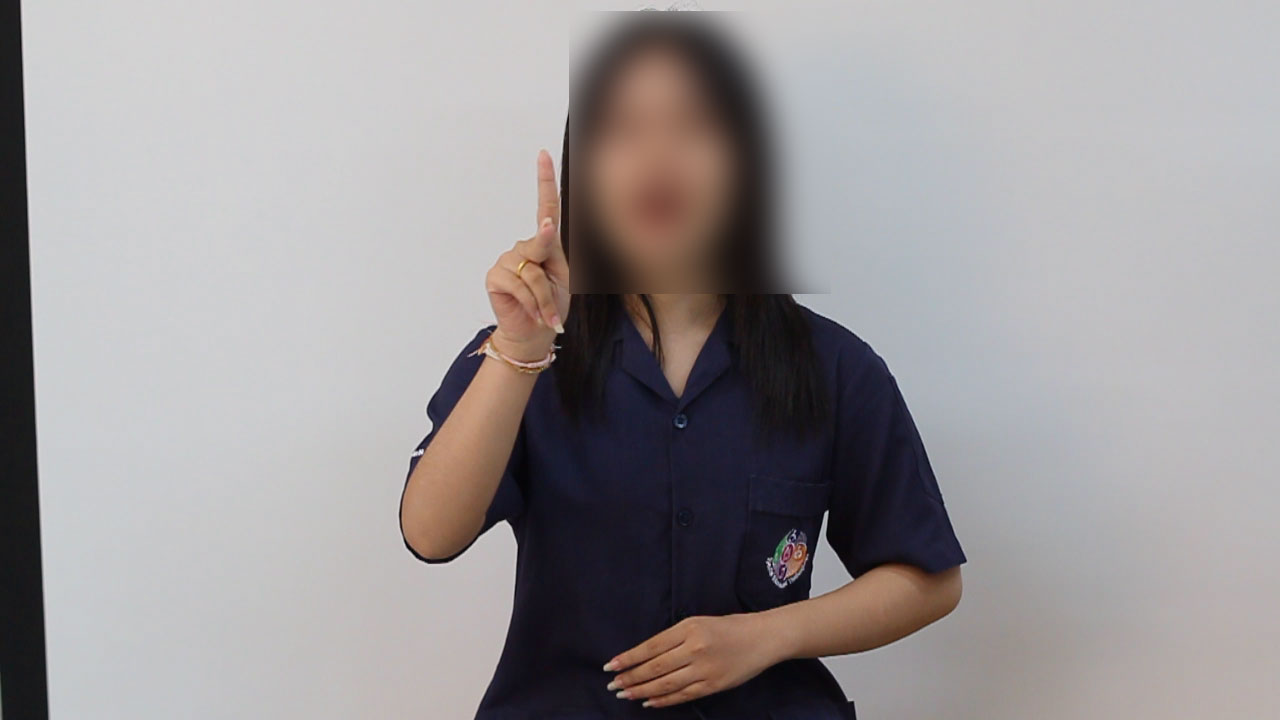ko: (425, 138, 627, 374)
